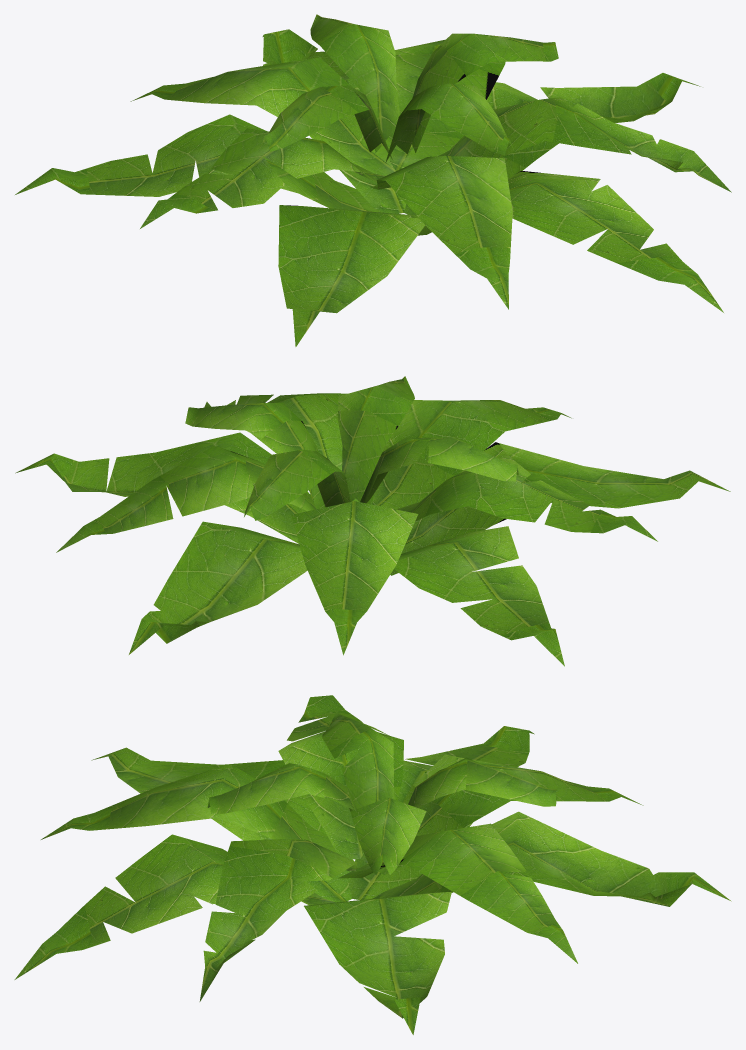
The model's file is Plant_1.fbx.
3 renders of one model, top to bottom at view 1: azimuth 30°, elevation 25°; view 2: azimuth 150°, elevation 25°; view 3: azimuth 270°, elevation 25°, orthographic. The views are drawn at different scales.
Parts seen in each view (by area): view 1: Plant; view 2: Plant; view 3: Plant.
Boxes of the visible parts, <box> form: Plant: <box>15,14,731,346</box>; Plant: <box>15,376,730,666</box>; Plant: <box>14,695,731,1034</box>.
Size of the model in its own units: 261 by 61.89 by 263.
1 material, 1 textured.
